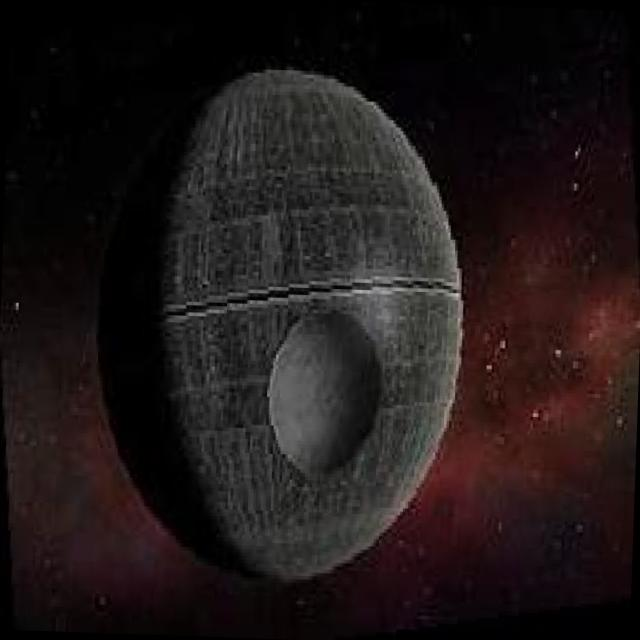Death Star: (99, 48, 488, 600)
